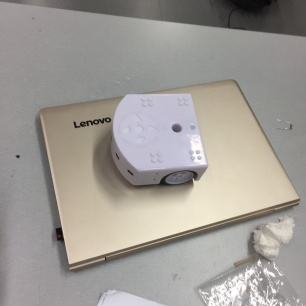thymio: (100, 89, 210, 191)
